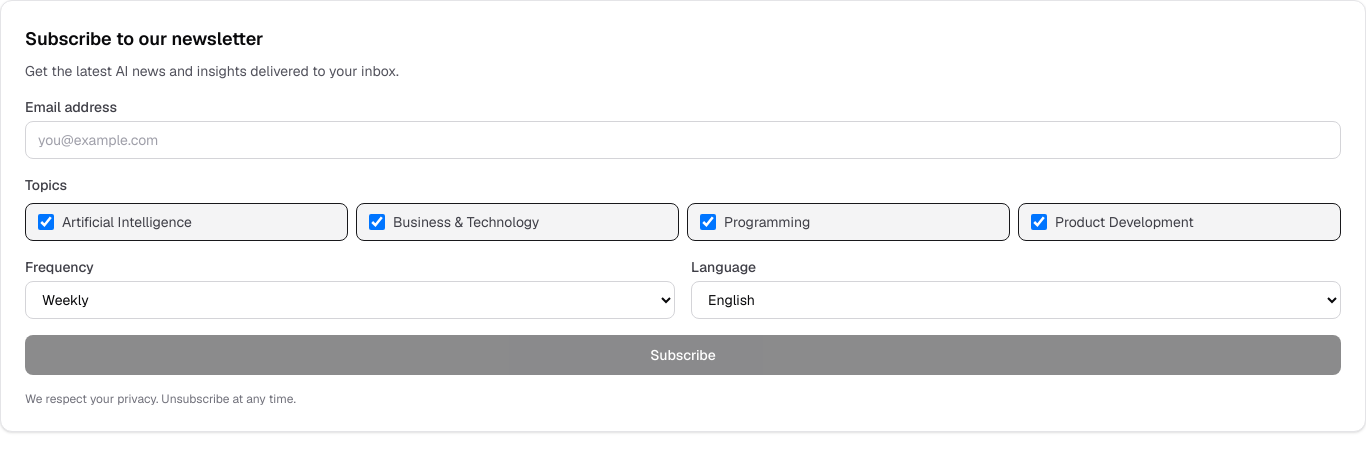
Test: SubscribeForm › subscribes successfully with confirmation required
The width and height of the screenshot is (1366, 450).
Type "user@example.com" into the field labelled "Email address" at (683, 140), box [25,121,1341,159]
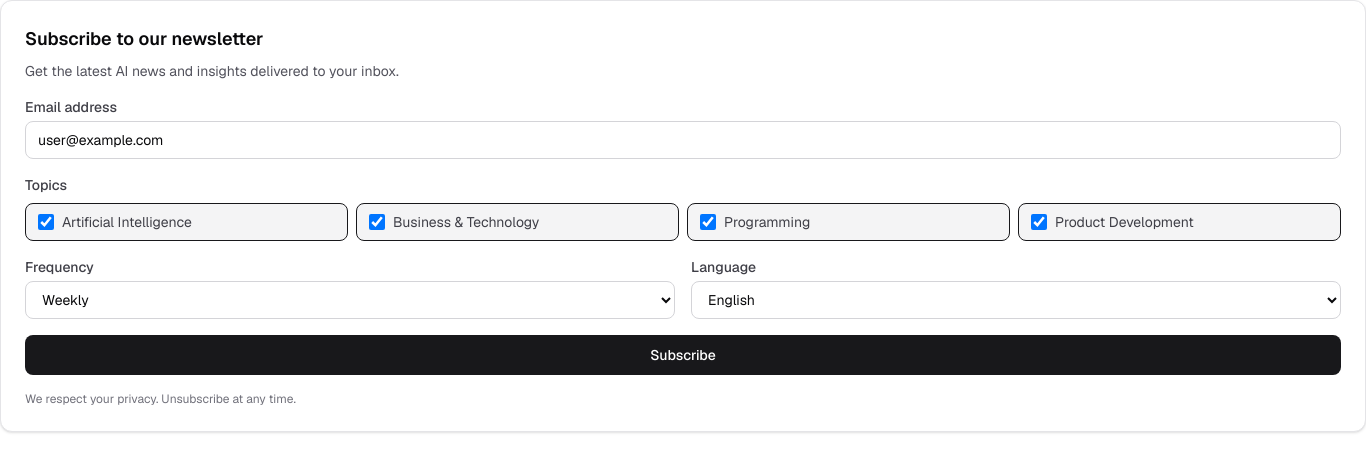
Click the button "Subscribe" at (683, 355), box [25,335,1341,375]
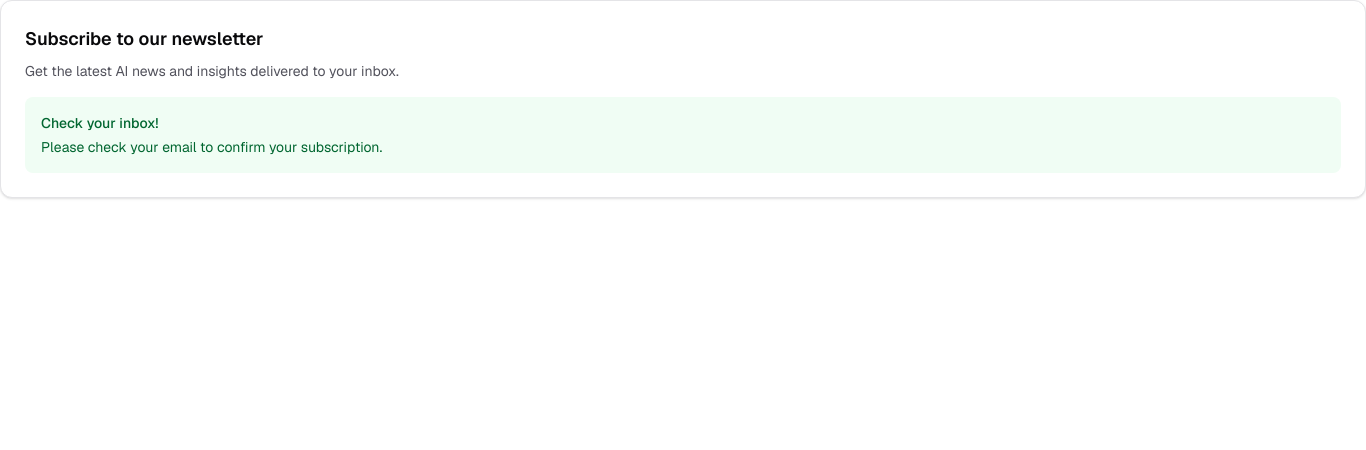
Check: the text "Please check your email to confirm your subscription." is shown, box [41,138,382,156]
